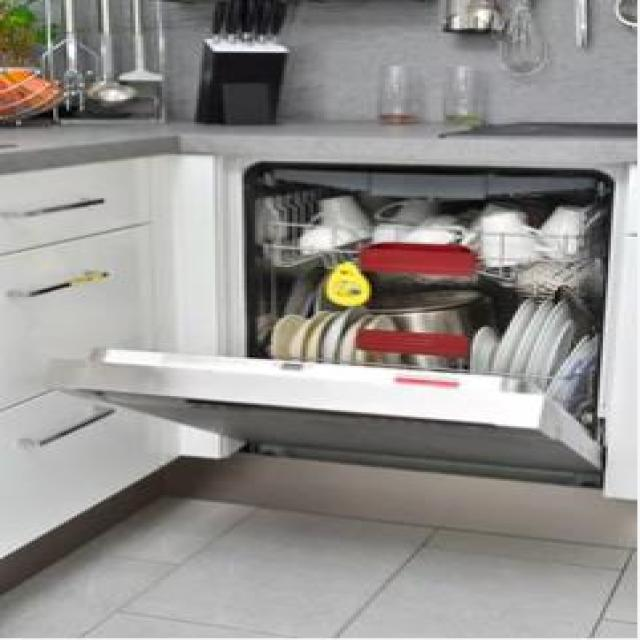dishwasher: (40, 156, 624, 498)
